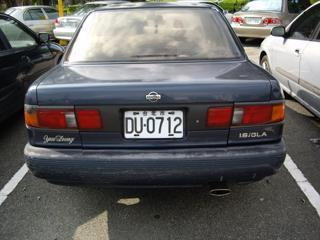plate: (122, 108, 186, 140)
